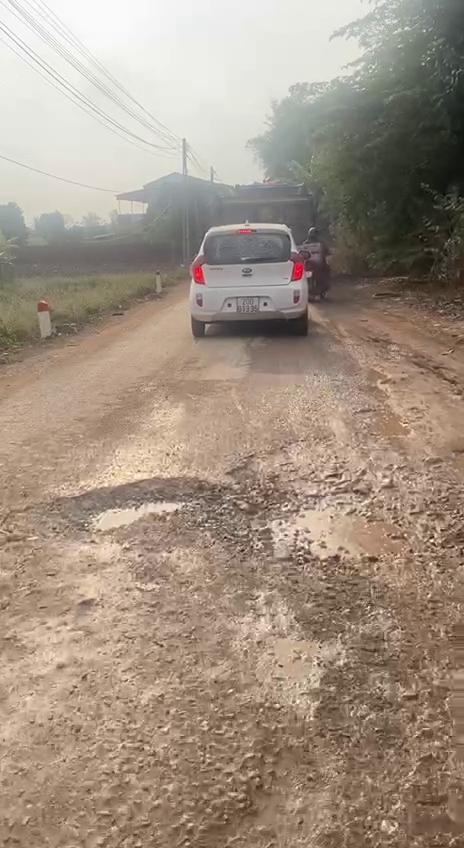pothole: (199, 657, 464, 848), (223, 474, 464, 585), (0, 474, 217, 557)
